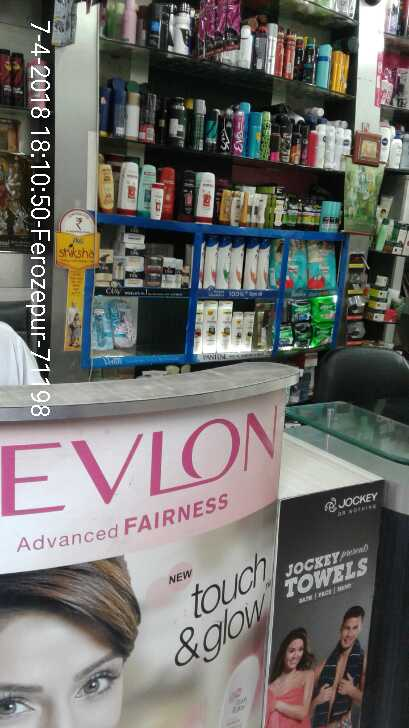venus: (111, 300, 136, 347), (93, 300, 111, 353)
